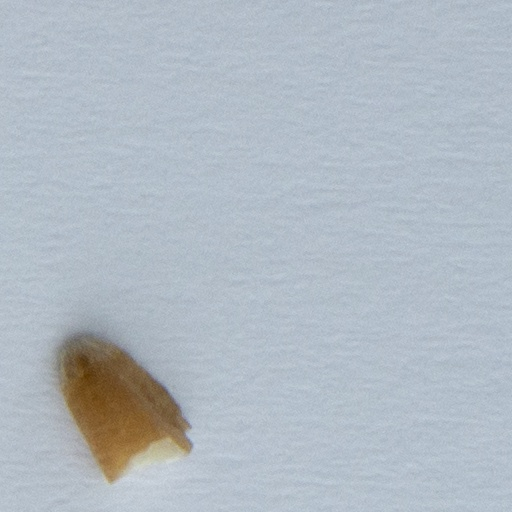Wheat-grain-damaged-poly: (54, 336, 195, 485)
